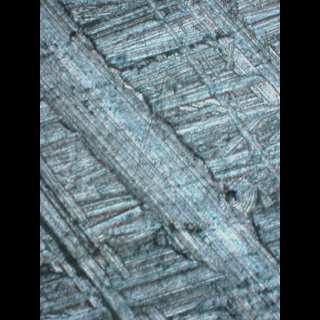d: (40, 0, 279, 318), (39, 129, 169, 319)
